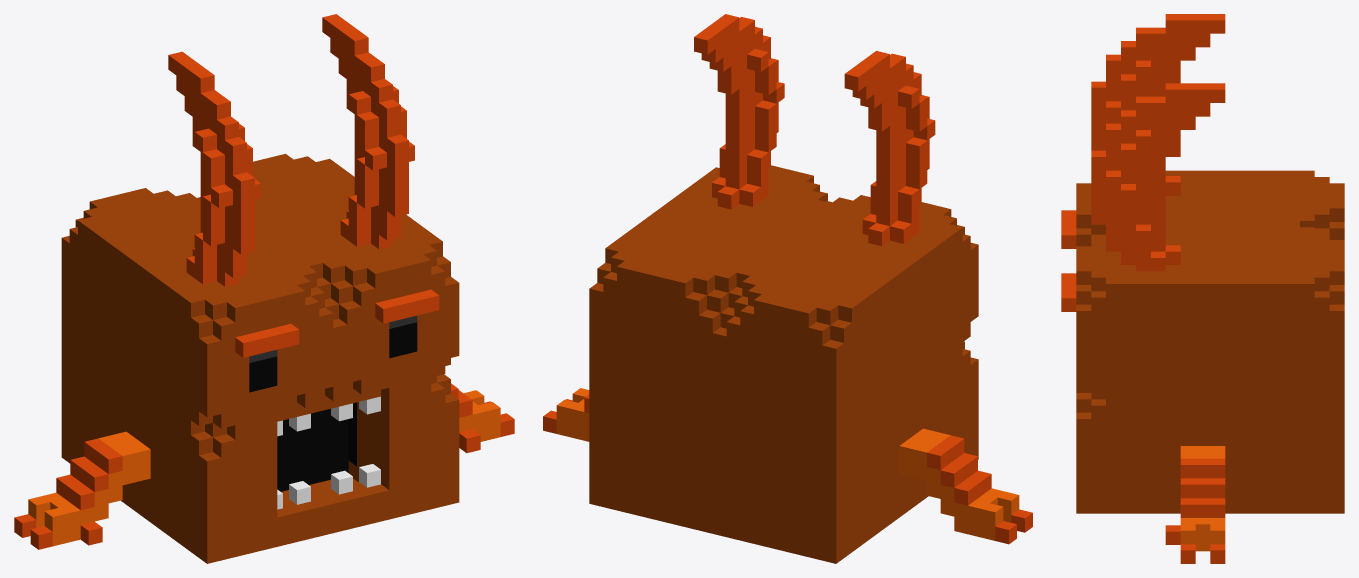
The model's file is monster1_run2.obj.
The picture shows the model from 3 angles, left to right: view 1: azimuth 30°, elevation 25°; view 2: azimuth 150°, elevation 25°; view 3: azimuth 270°, elevation 25°; orthographic projection. The views are drawn at different scales.
Visible parts, largest first — view 1: monster1_run2; view 2: monster1_run2; view 3: monster1_run2.
Part boxes in pixels (x1,y1,x2,y2): monster1_run2: (14, 14, 514, 563); monster1_run2: (543, 14, 1032, 563); monster1_run2: (1061, 14, 1344, 563).
Size of the model in its own units: 34 by 30 by 19.
Materials: 1 (1 with a texture image).
